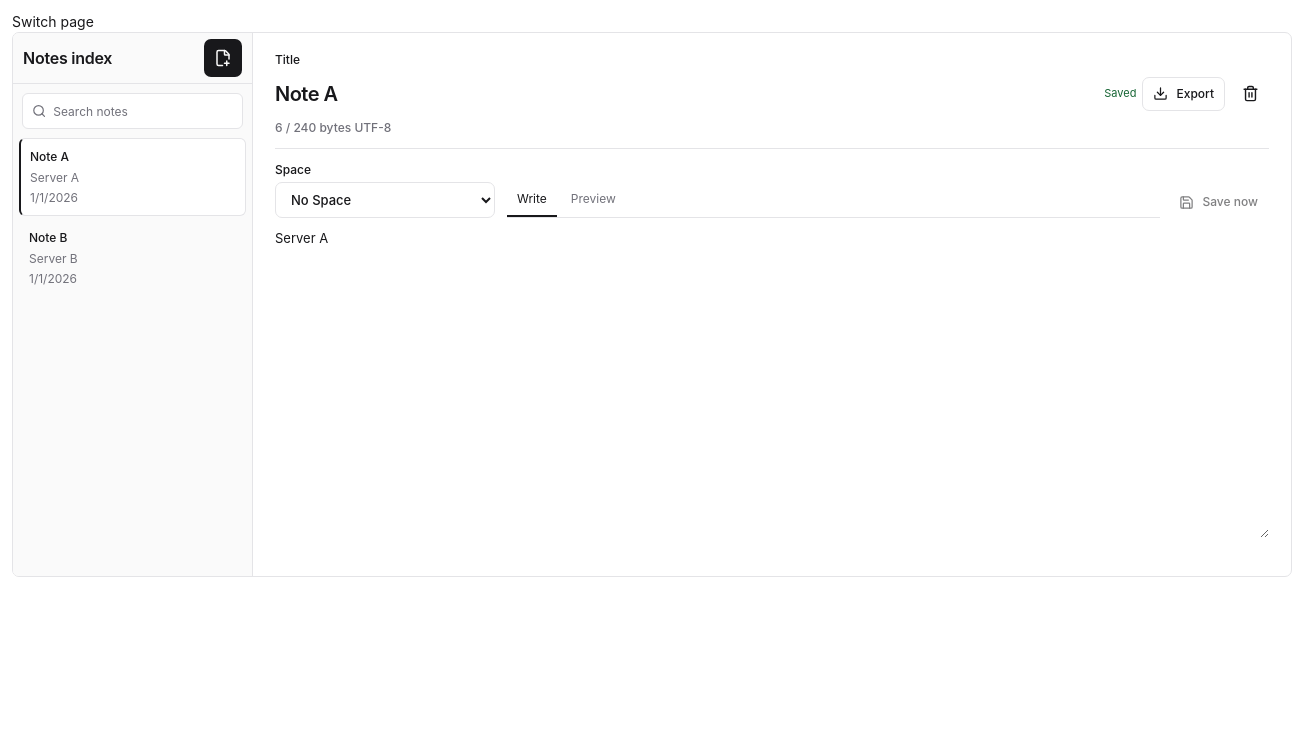
note navigation › moves focus across writing and preview tabs without changing mode and links each mode to its panel
Expected: the button "Save now" is shown, x1=1168 y1=186 x2=1269 y2=218
Replace the text in the text box named "Note content in Markdown" with "Draft preserved between modes" at point(772, 378), box x1=275 y1=218 x2=1269 y2=538
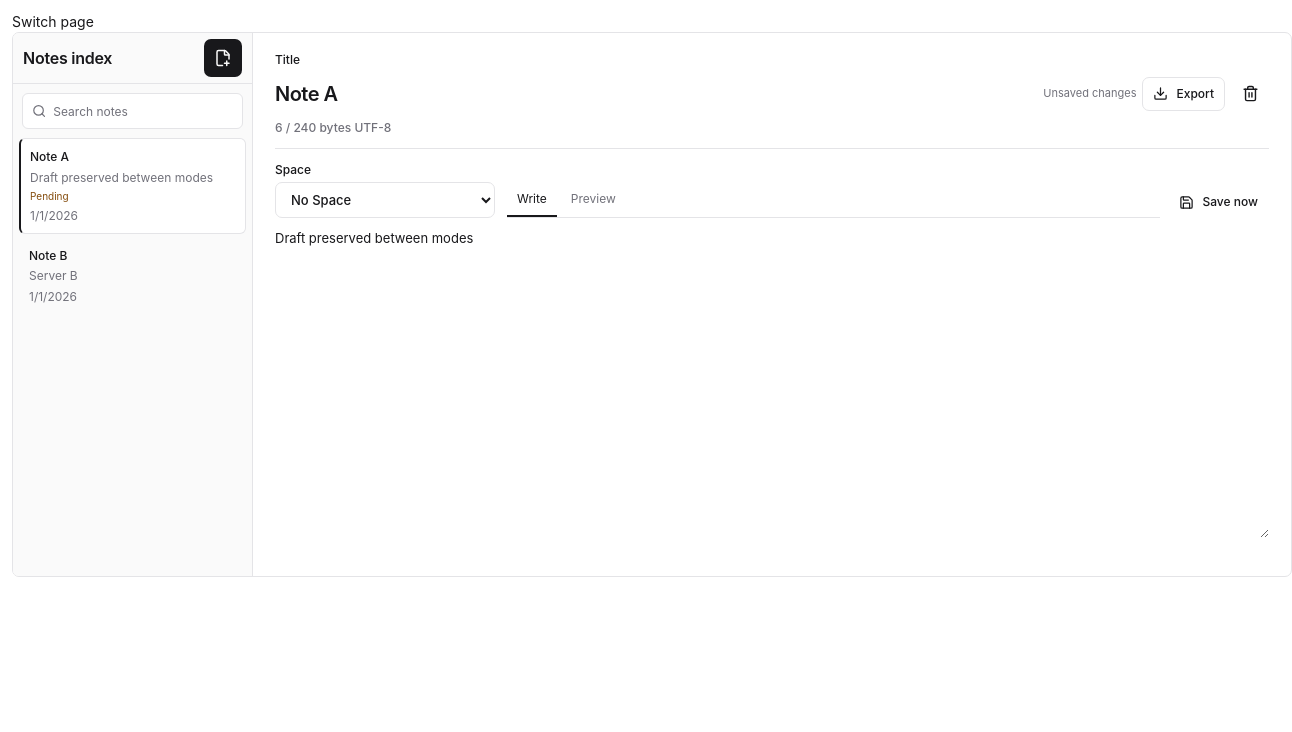
Click the tab "Preview" at point(593, 200), box x1=561 y1=182 x2=626 y2=218
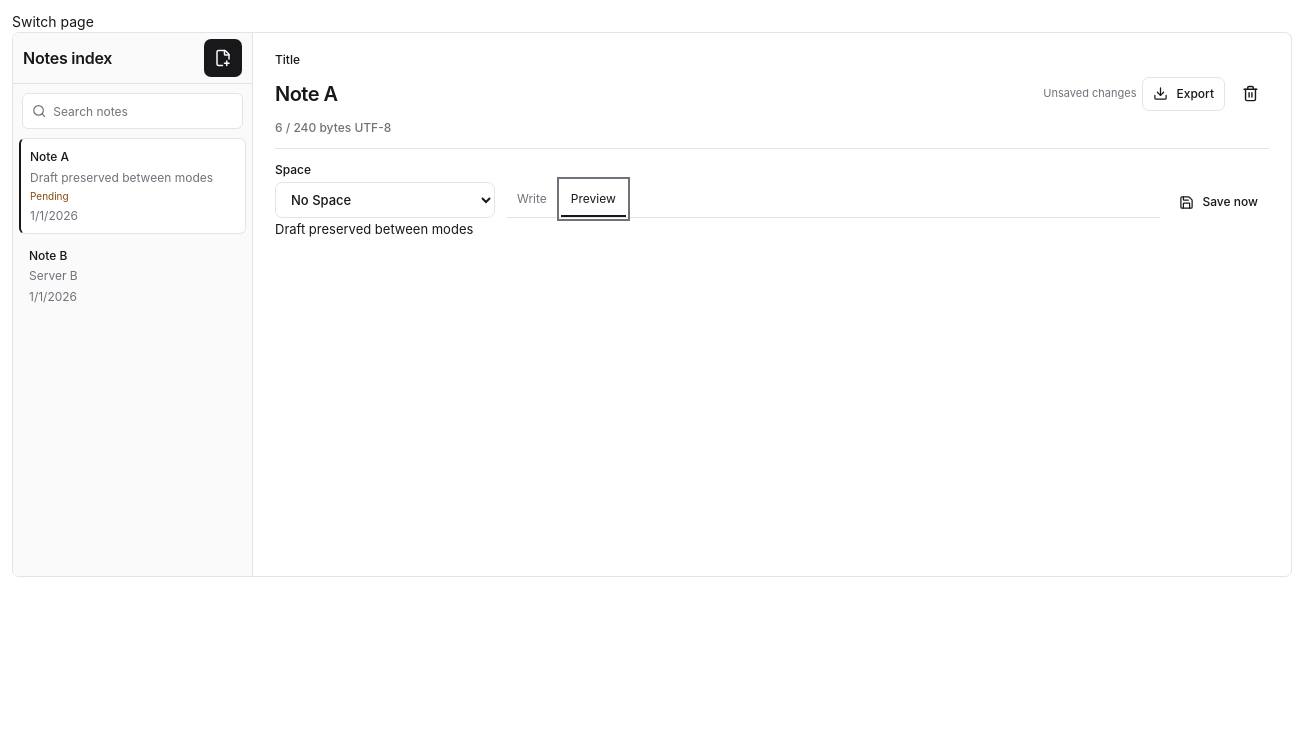
Press Arrowleft
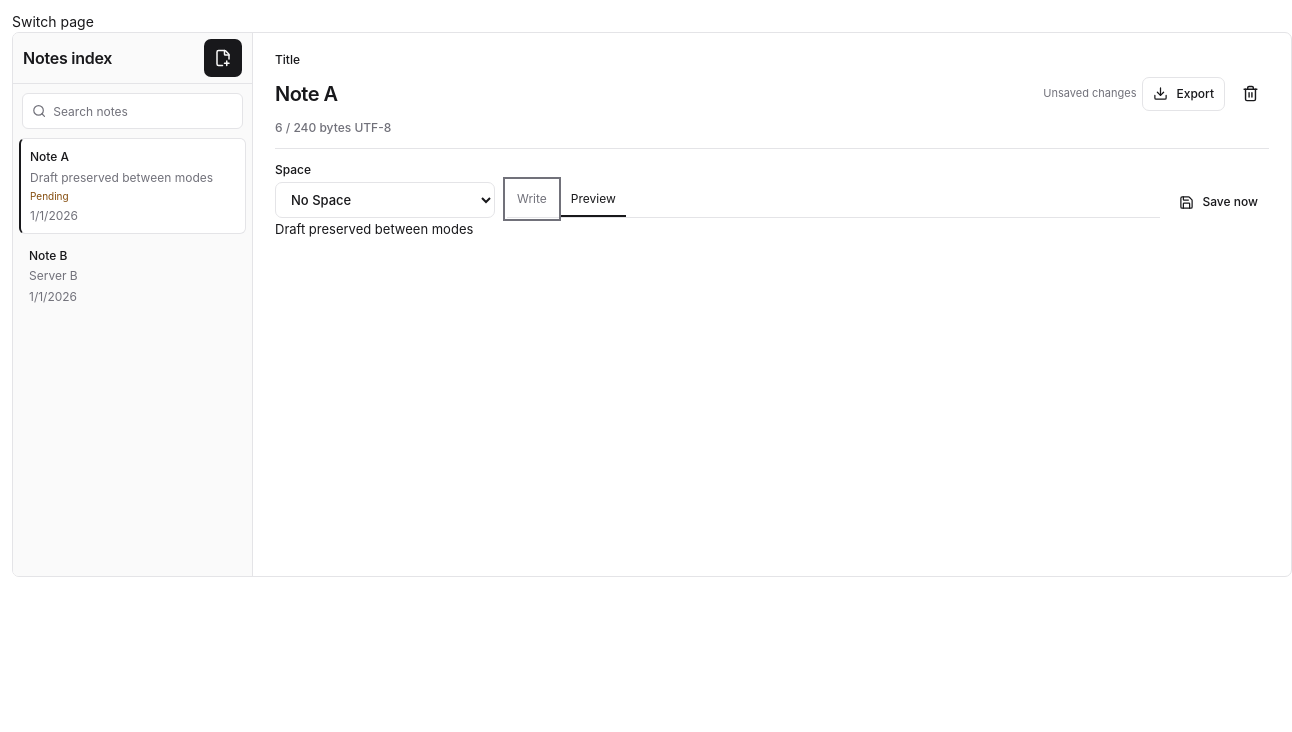
Expected: the text "Draft preserved between modes" below "Space" is shown, x1=275 y1=222 x2=473 y2=238
Type keys " "
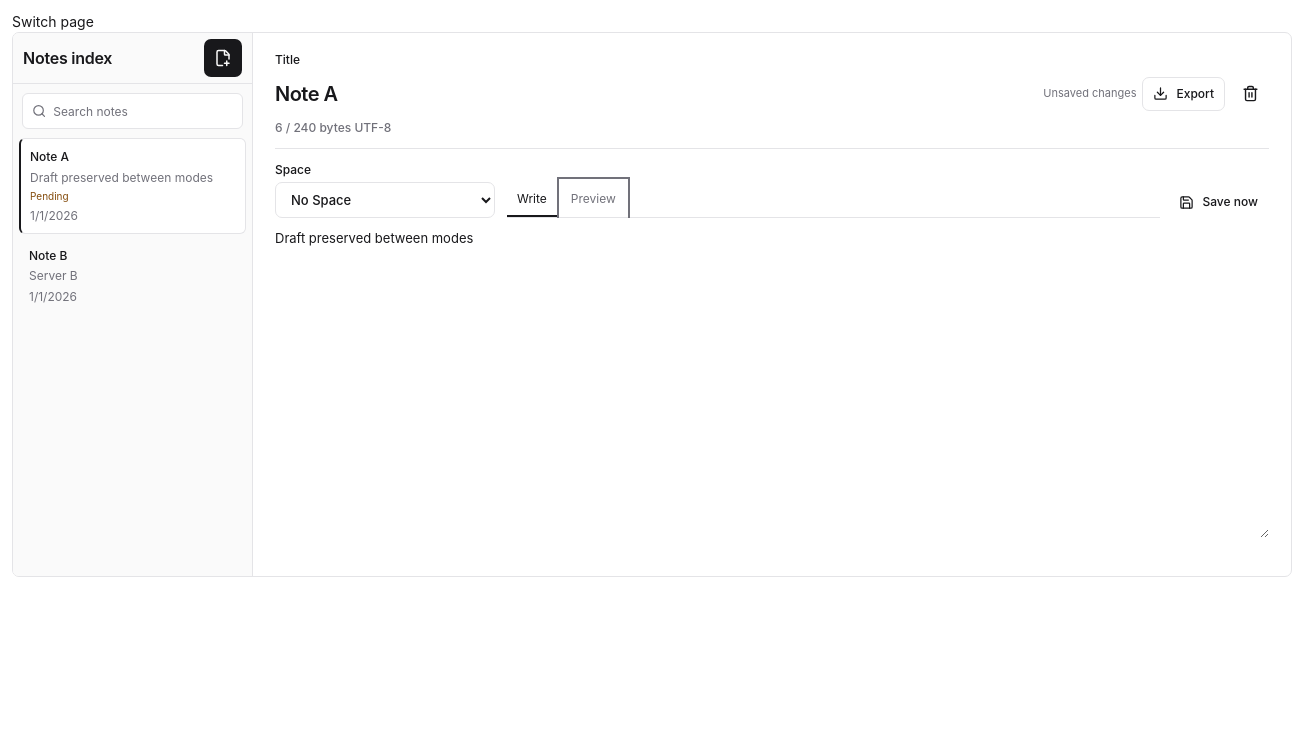
Expected: the text box named "Note content in Markdown" holds "Draft preserved between modes", x1=275 y1=218 x2=1269 y2=538
Press Enter
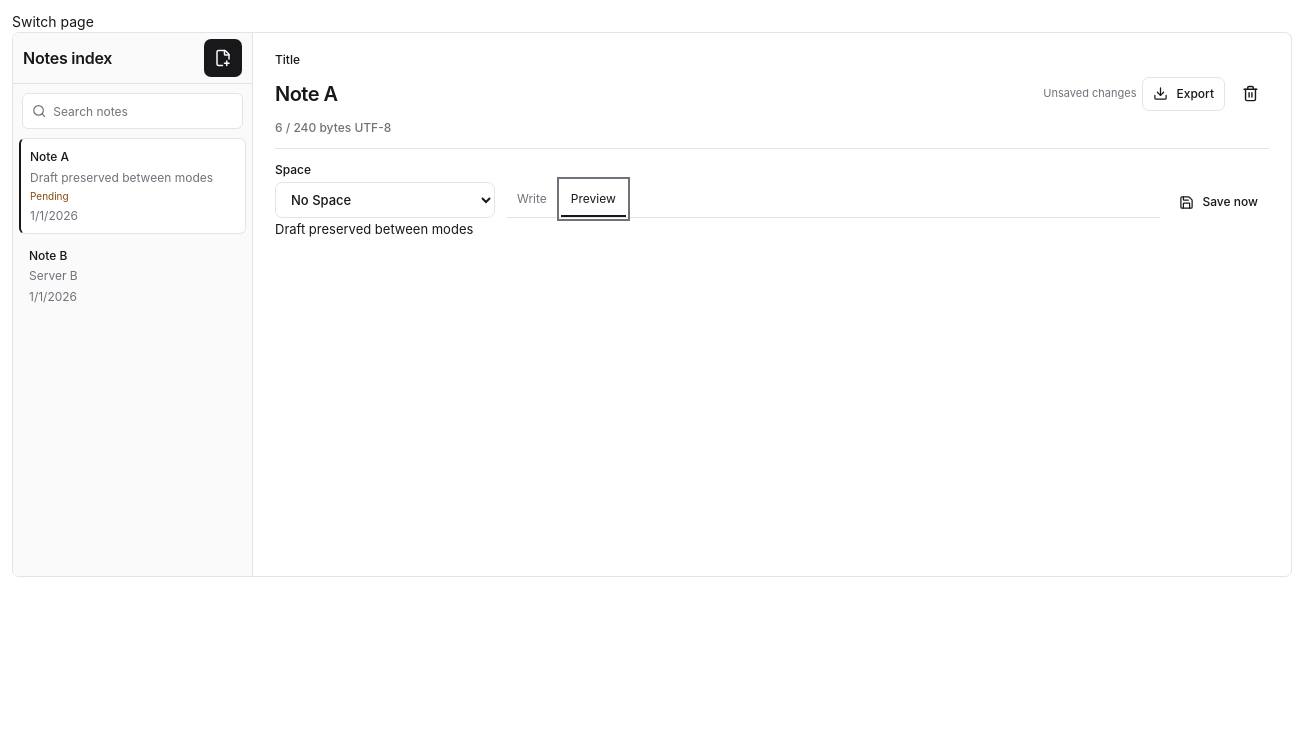
Expected: the text "Draft preserved between modes" below "Space" is shown, x1=275 y1=222 x2=473 y2=238
